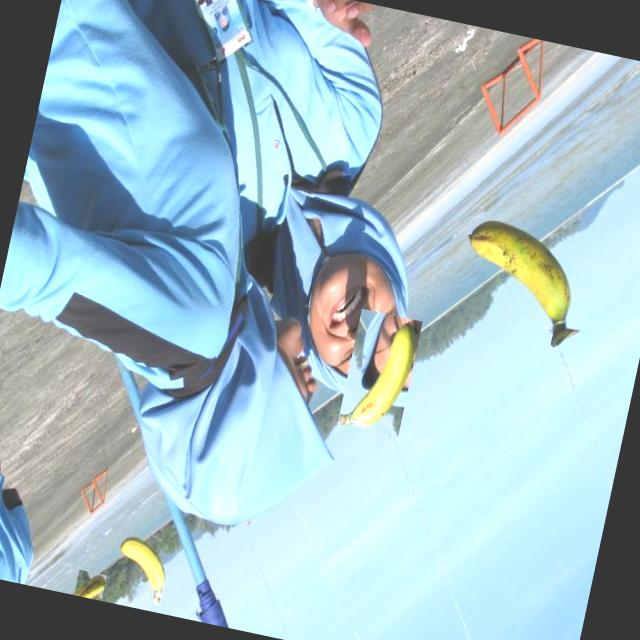Banana: (449, 214, 598, 350), (337, 308, 422, 436), (109, 533, 172, 603), (74, 564, 108, 600)
